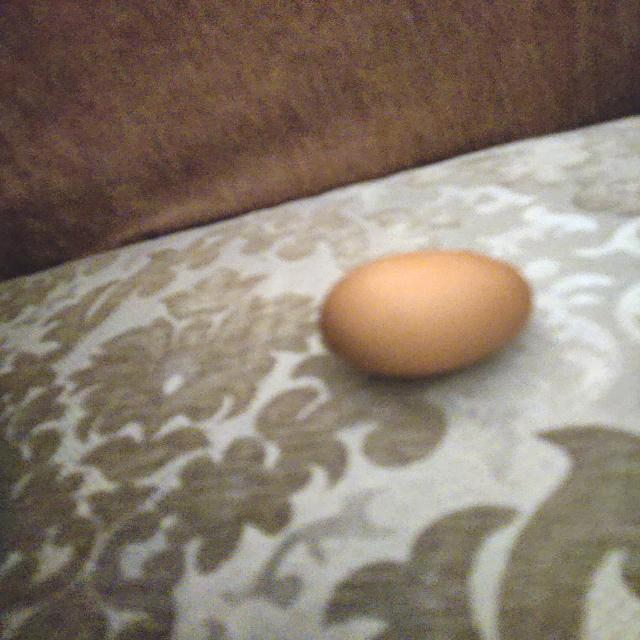egg: (318, 248, 536, 385)
